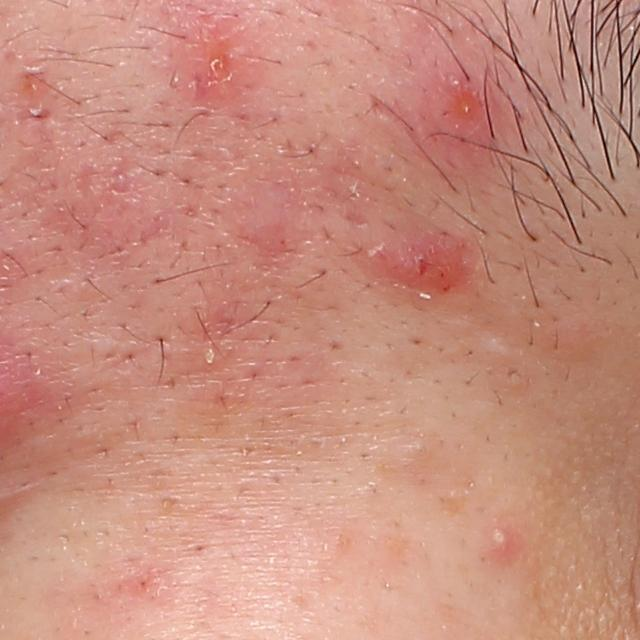comedo: (404, 439, 427, 460)
hypertrophic_scar: (464, 333, 531, 367)
papule: (173, 11, 259, 99), (422, 60, 504, 152), (376, 223, 473, 294), (13, 58, 56, 99)
pustule: (474, 519, 517, 562)
